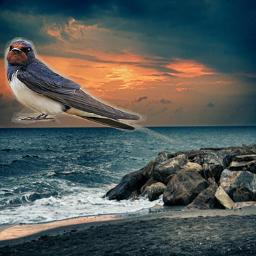Swallow: (4, 37, 183, 144)
